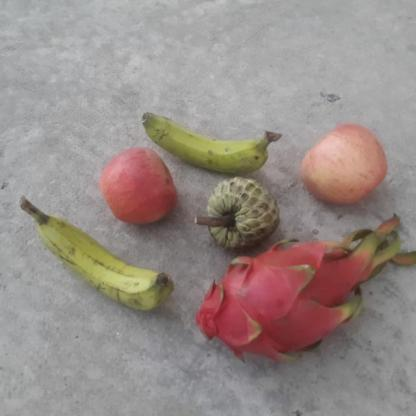annona: (204, 175, 280, 253)
apple: (298, 122, 388, 206), (99, 147, 180, 223)
banana: (20, 194, 181, 313), (141, 111, 281, 176)
pitaya: (197, 238, 372, 361)
